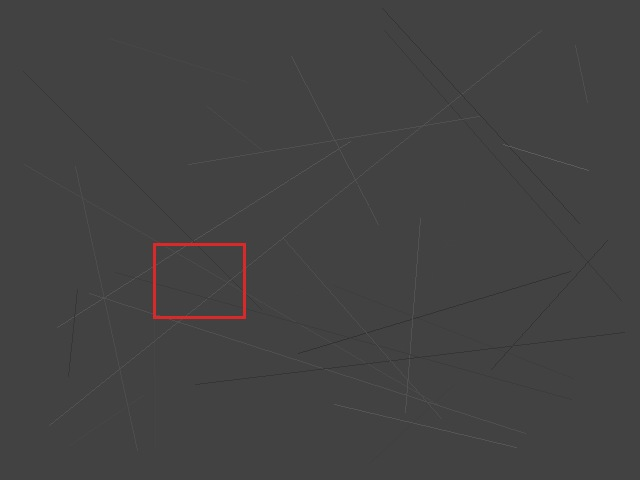D00: (153, 243, 245, 318)
